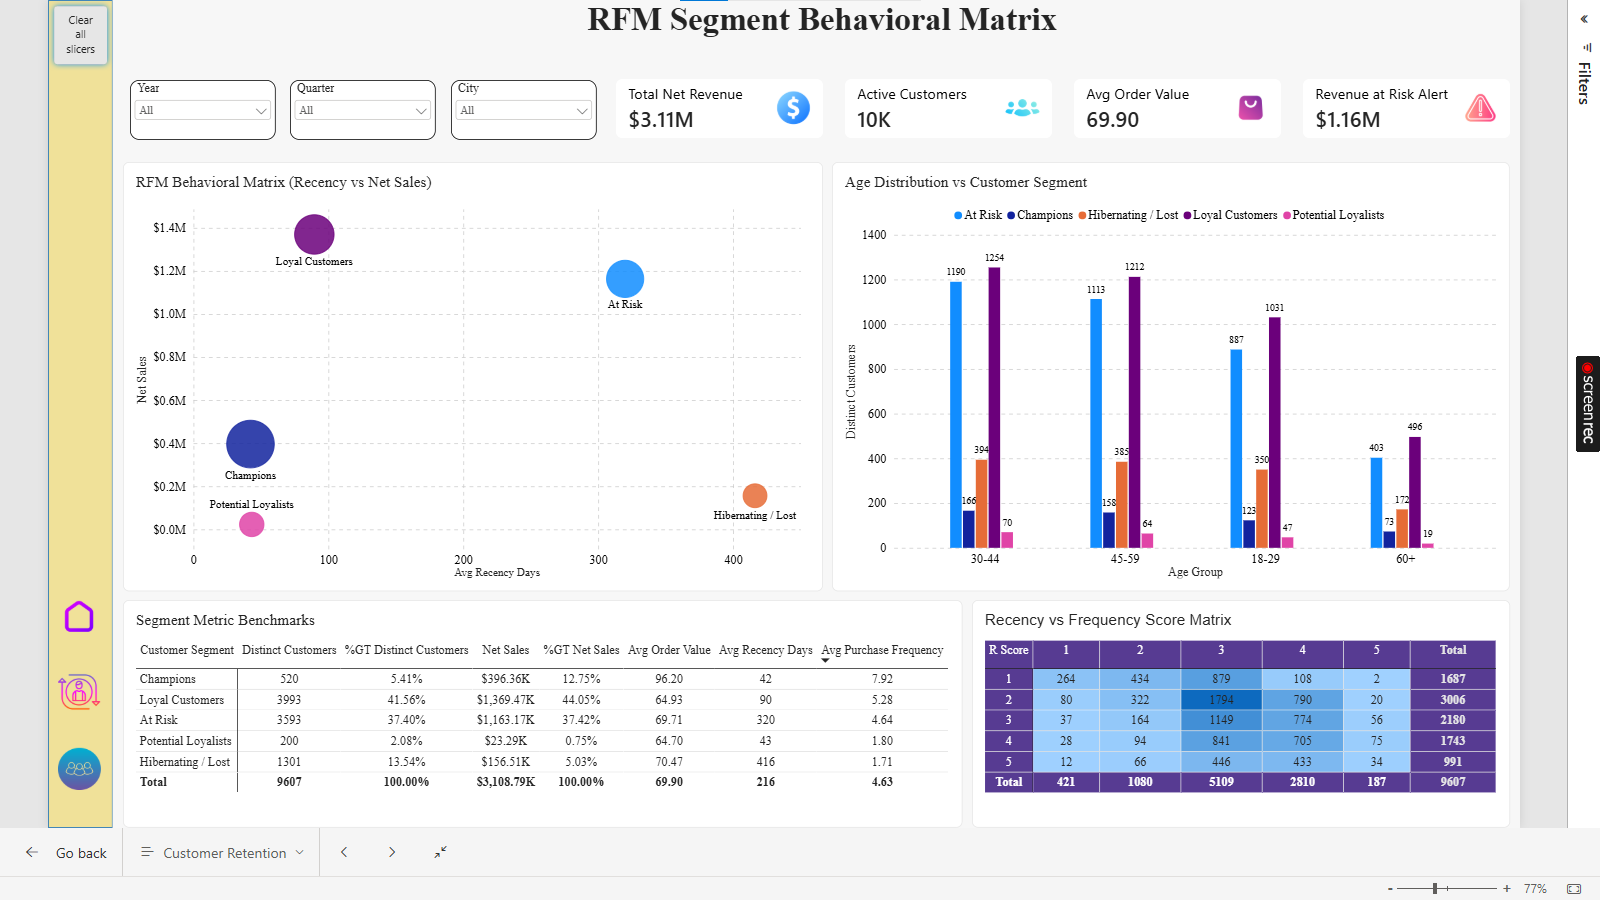

What the dashboard file says about the page in this screenshot:
{"tool":"powerbi","page":{"name":"Customer Retention","canvas":[1920,1080],"ordinal":1},"visuals":[{"type":"shape","box":[0,0,84.4,1080],"z":0,"group":"g1"},{"type":"textbox","box":[99.2,0,1820.8,67.5],"z":0},{"type":"cardVisual","fields":{"Data":["Measure Table.Net Sales"]},"box":[740.3,103.5,270,77],"z":0,"group":"g3"},{"type":"slicer","fields":{"Values":["dim_date.Date.Variation.Date Hierarchy.Year"]},"box":[106.3,104.6,190,77.6],"z":0,"group":"g2"},{"type":"cardVisual","fields":{"Data":["Measure Table.Distinct Customers"]},"box":[1039.1,103.5,270,77],"z":1000,"group":"g3"},{"type":"slicer","fields":{"Values":["dim_date.Date.Variation.Date Hierarchy.Quarter"]},"box":[315.5,104.6,190,77.6],"z":1000,"group":"g2"},{"type":"scatterChart","title":"RFM Behavioral Matrix (Recency vs Net Sales)","fields":{"Series":["dim_customers.Customer Segment"],"Size":["Measure Table.Avg Purchase Frequency"],"X":["Measure Table.Avg Recency Days"],"Y":["Measure Table.Net Sales"]},"box":[97.9,210.9,912.9,560.2],"z":1000},{"type":"image","box":[13.5,771.2,55,65],"z":1000,"group":"g1"},{"type":"cardVisual","fields":{"Data":["Measure Table.Avg Order Value"]},"box":[1338,103.5,270,77.6],"z":2000,"group":"g3"},{"type":"slicer","fields":{"Values":["dim_customers.City"]},"box":[524.8,104.6,190,77.6],"z":2000,"group":"g2"},{"type":"pivotTable","title":"Segment Metric Benchmarks","fields":{"Rows":["dim_customers.Customer Segment"],"Values":["Measure Table.Distinct Customers","Divide(Measure Table.Distinct Customers, ScopedEval(Measure Table.Distinct Customers, []))","Measure Table.Net Sales","Divide(Measure Table.Net Sales, ScopedEval(Measure Table.Net Sales, []))","Measure Table.Avg Order Value","Measure Table.Avg Recency Days","Measure Table.Avg Purchase Frequency"]},"box":[97.9,783,1095.2,297],"z":2000},{"type":"image","box":[13.5,870.3,55,65.8],"z":2000,"group":"g1"},{"type":"cardVisual","fields":{"Data":["Measure Table.At Rist Value"]},"box":[1636.8,103.5,270,77.6],"z":3000,"group":"g3"},{"type":"clusteredColumnChart","title":"Age Distribution vs Customer Segment","fields":{"Category":["dim_customers.Age Group"],"Series":["dim_customers.Customer Segment"],"Y":["Measure Table.Distinct Customers"]},"box":[1022.6,210.9,884.2,560.2],"z":3000},{"type":"image","box":[13.5,970.3,55.7,65],"z":3000,"group":"g1"},{"type":"pivotTable","title":"Recency vs Frequency Score Matrix","fields":{"Columns":["F_Score_Axis.F Score"],"Rows":["R_Score_Axis.R Score"],"Values":["Measure Table.RFM Customer Count"]},"box":[1204.9,783,702,297],"z":4000},{"type":"group","id":"g1","title":"Navigation","box":[0,0,84.4,1080],"z":5000},{"type":"group","id":"g2","title":"Report Filters","box":[106.3,104.6,608.5,77.6],"z":6000},{"type":"group","id":"g3","title":"KPI","box":[740.3,103.5,1166.5,77.6],"z":7000},{"type":"actionButton","box":[0,0,85,91.8],"z":7001}]}

Visuals, with their boxes on the page's 1920x1080 design canvas (x1, y1, x2, y2). These are canvas units, not pixel positions in the 1600x900 screenshot, which may show the page scaled, cropped or inside an application window:
shape: x1=0 y1=0 x2=84 y2=1080
textbox: x1=99 y1=0 x2=1920 y2=68
cardVisual - Measure Table.Net Sales: x1=740 y1=104 x2=1010 y2=180
slicer - dim_date.Date.Variation.Date Hierarchy.Year: x1=106 y1=105 x2=296 y2=182
cardVisual - Measure Table.Distinct Customers: x1=1039 y1=104 x2=1309 y2=180
slicer - dim_date.Date.Variation.Date Hierarchy.Quarter: x1=316 y1=105 x2=506 y2=182
"RFM Behavioral Matrix (Recency vs Net Sales)" scatterChart: x1=98 y1=211 x2=1011 y2=771
image: x1=14 y1=771 x2=68 y2=836
cardVisual - Measure Table.Avg Order Value: x1=1338 y1=104 x2=1608 y2=181
slicer - dim_customers.City: x1=525 y1=105 x2=715 y2=182
"Segment Metric Benchmarks" pivotTable: x1=98 y1=783 x2=1193 y2=1080
image: x1=14 y1=870 x2=68 y2=936
cardVisual - Measure Table.At Rist Value: x1=1637 y1=104 x2=1907 y2=181
"Age Distribution vs Customer Segment" clusteredColumnChart: x1=1023 y1=211 x2=1907 y2=771
image: x1=14 y1=970 x2=69 y2=1035
"Recency vs Frequency Score Matrix" pivotTable: x1=1205 y1=783 x2=1907 y2=1080
"Navigation" group: x1=0 y1=0 x2=84 y2=1080
"Report Filters" group: x1=106 y1=105 x2=715 y2=182
"KPI" group: x1=740 y1=104 x2=1907 y2=181
actionButton: x1=0 y1=0 x2=85 y2=92
